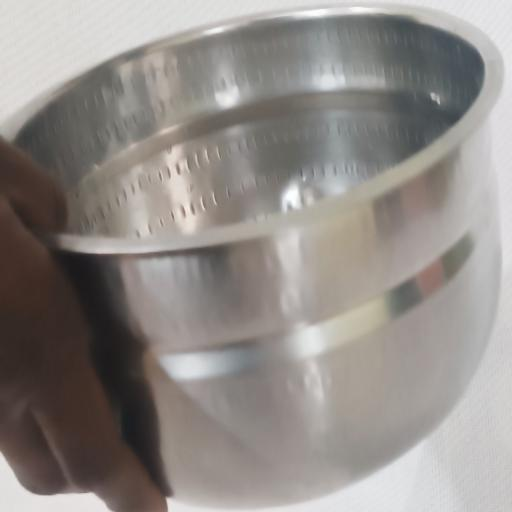vessel: (3, 6, 502, 507)
